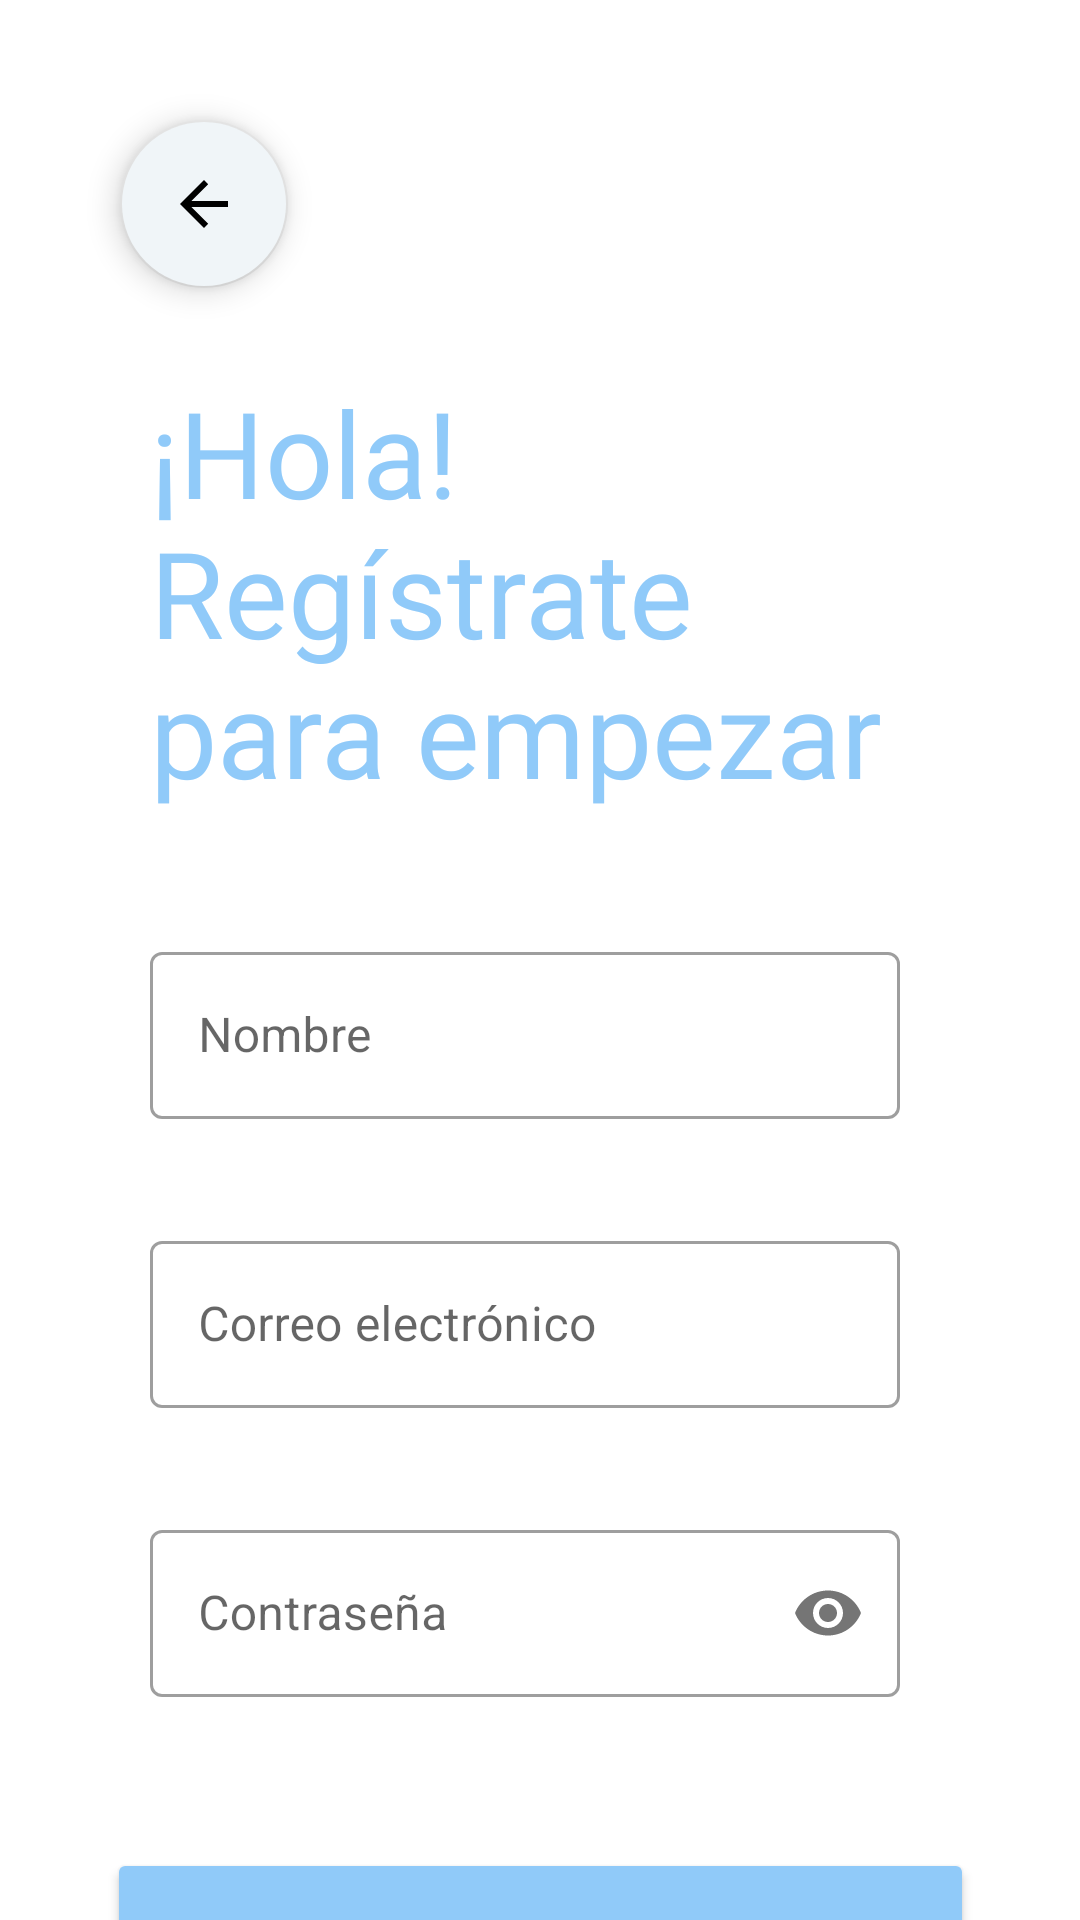

Icons on this 1080x1920 Android screen, each with its box as (x1, y1, x2, y2):
Botón para regresar a la pantalla de inicio: (120, 120, 288, 288)
